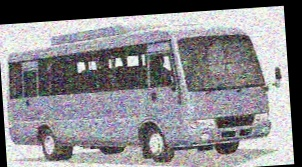bus: (5, 17, 274, 167)
